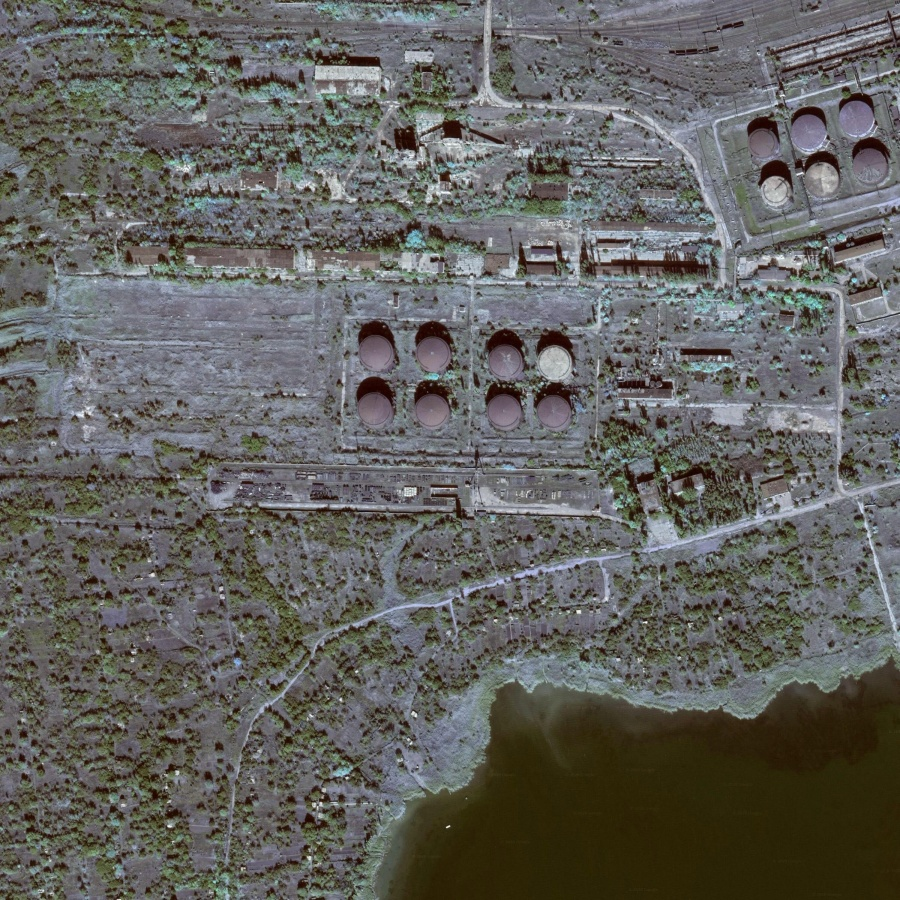PowerPlant: (323, 281, 593, 459)
